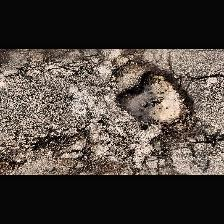pothole: (112, 66, 196, 132), (0, 158, 20, 174)
